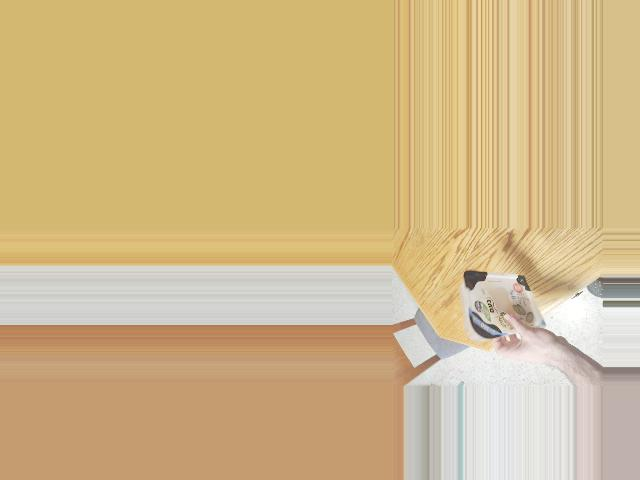cheese: (456, 274, 529, 342)
